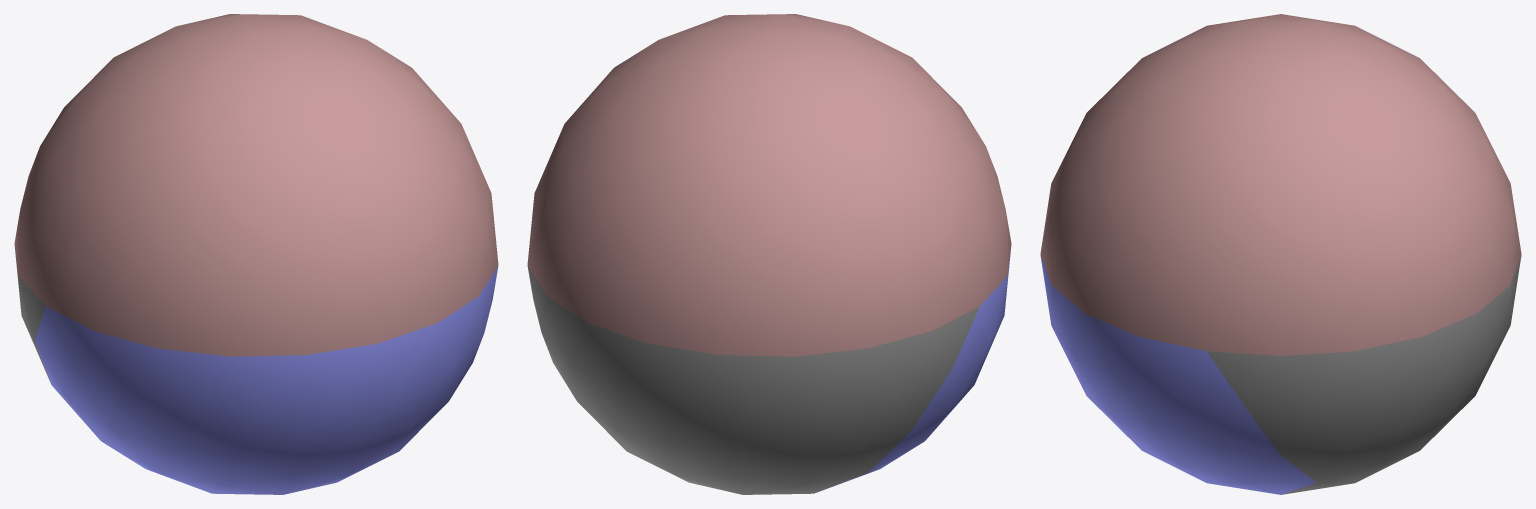
File: ball.FBX
3 renders of one model, left to right at view 1: azimuth 30°, elevation 25°; view 2: azimuth 150°, elevation 25°; view 3: azimuth 270°, elevation 25°, orthographic.
Visible parts, largest first — view 1: GeoSphere001; view 2: GeoSphere001; view 3: GeoSphere001.
Boxes of the visible parts, bbox=[...] form: GeoSphere001: bbox=[14, 14, 498, 494]; GeoSphere001: bbox=[527, 14, 1011, 494]; GeoSphere001: bbox=[1040, 14, 1521, 494].
Bounding box in the file's own units: 107 × 107 × 107.
